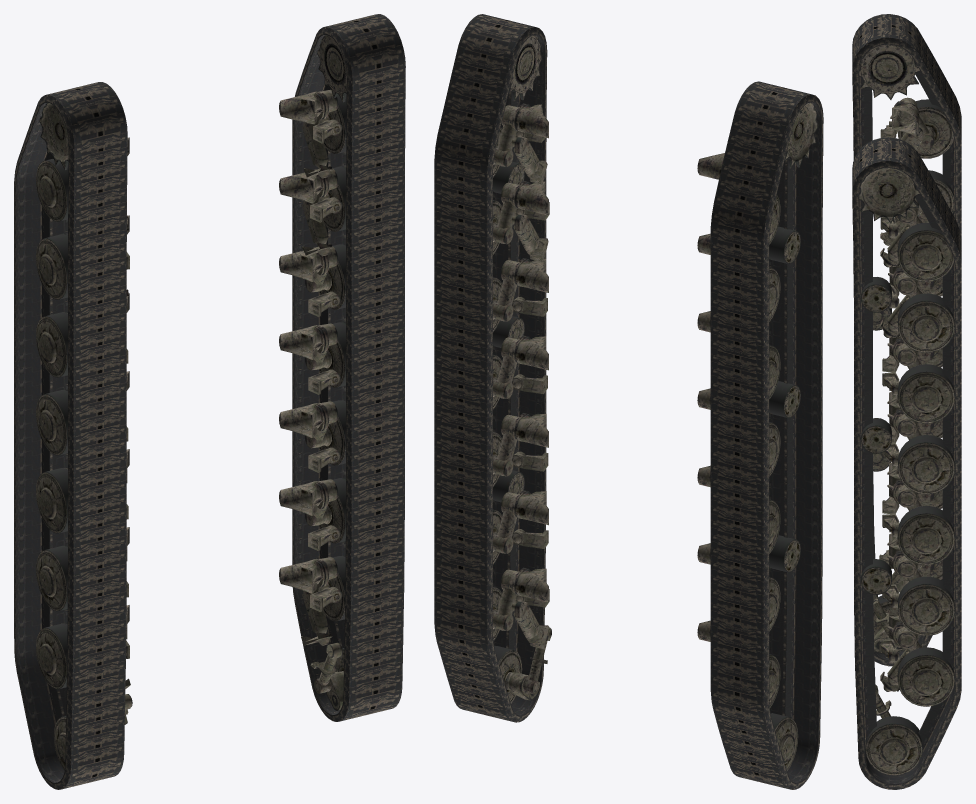
Rendered from Chassis.glb.
3 renders of one model, left to right at view 1: azimuth 30°, elevation 25°; view 2: azimuth 150°, elevation 25°; view 3: azimuth 270°, elevation 25°, orthographic. The views are drawn at different scales.
Visible parts, largest first — view 1: set_0_group_0, set_1_group_0, set_3_group_0, set_2_group_0; view 2: set_0_group_0, set_1_group_0, set_3_group_0, set_2_group_0; view 3: set_3_group_0, set_1_group_0, set_2_group_0, set_0_group_0.
Part boxes in pixels (left/top/right/bottom): set_0_group_0: left=14, top=82, right=127, bottom=789; set_1_group_0: left=292, top=14, right=405, bottom=721; set_3_group_0: left=279, top=15, right=389, bottom=710; set_2_group_0: left=36, top=83, right=132, bottom=770; set_0_group_0: left=710, top=81, right=823, bottom=789; set_1_group_0: left=434, top=14, right=547, bottom=722; set_3_group_0: left=460, top=15, right=551, bottom=703; set_2_group_0: left=697, top=82, right=817, bottom=770; set_3_group_0: left=859, top=139, right=954, bottom=775; set_1_group_0: left=852, top=137, right=961, bottom=789; set_2_group_0: left=859, top=15, right=954, bottom=653; set_0_group_0: left=852, top=14, right=961, bottom=666.
Size of the model in its own units: 3.38 by 6.66 by 1.05.
Materials: 4 (4 with a texture image).
